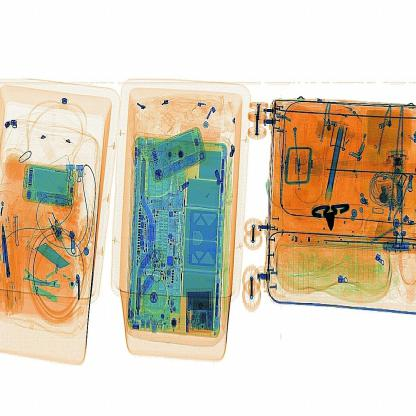gun: (308, 190, 362, 236)
